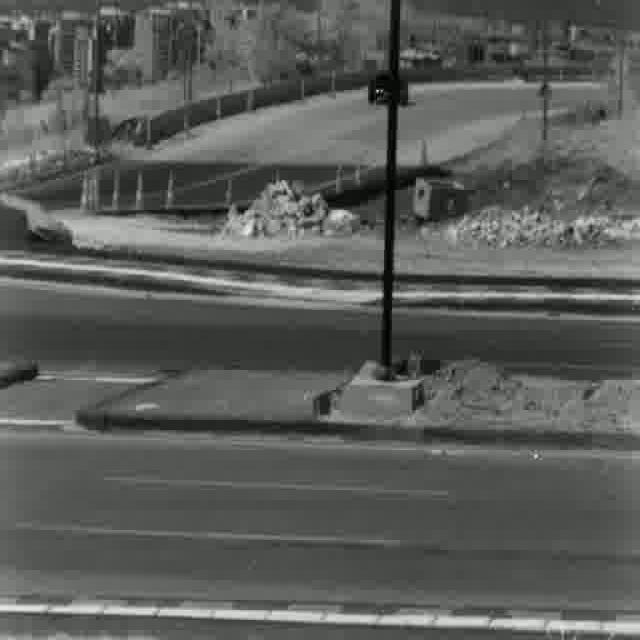Car: (369, 68, 408, 111)
